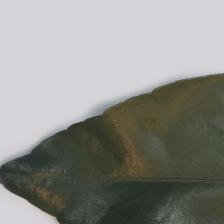healthy: (29, 88, 186, 212)
